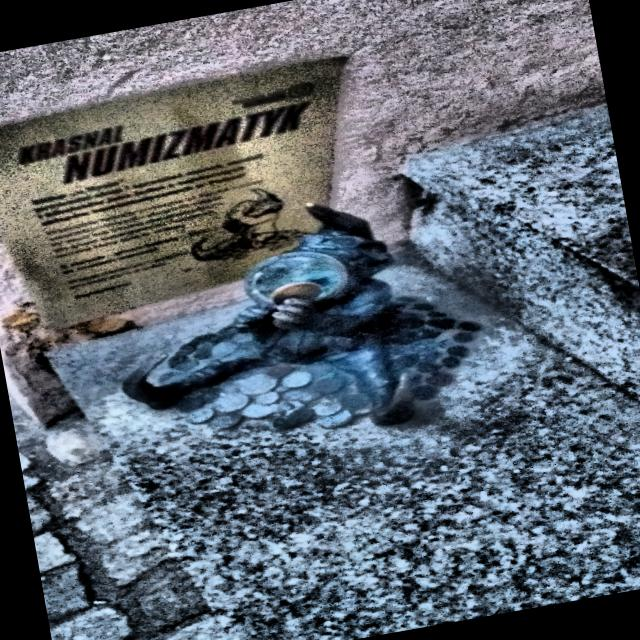Numizmatyk: (122, 204, 482, 428)
